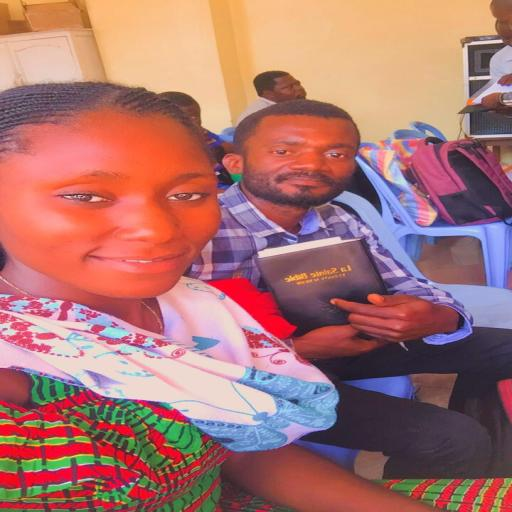MATTHIEU: (230, 90, 376, 231)
